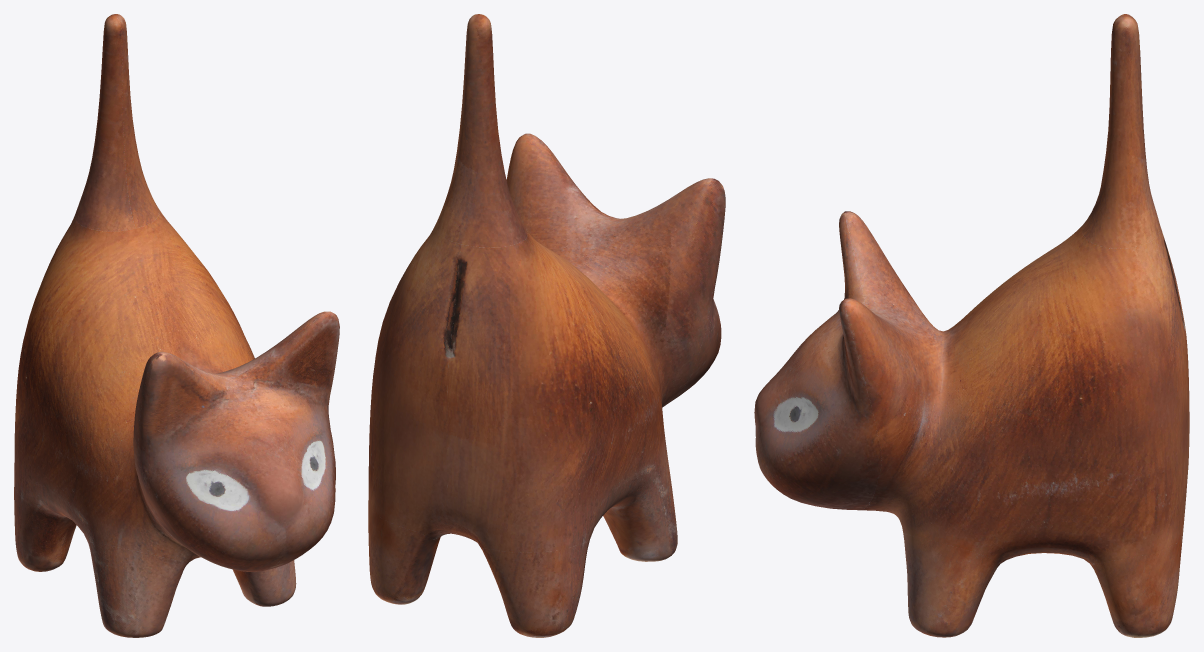
Rendered from gato_RTprueba.glb.
The picture shows the model from 3 angles, left to right: view 1: azimuth 30°, elevation 25°; view 2: azimuth 150°, elevation 25°; view 3: azimuth 270°, elevation 25°; orthographic projection. The views are drawn at different scales.
Visible parts, largest first — view 1: Gato_RT; view 2: Gato_RT; view 3: Gato_RT.
Boxes of the visible parts, left/top/right/bottom form: Gato_RT: left=14, top=14, right=339, bottom=637; Gato_RT: left=368, top=14, right=725, bottom=637; Gato_RT: left=754, top=14, right=1189, bottom=637.
Size of the model in its own units: 0.9354 by 2.49 by 1.69.
Materials: 1 (1 with a texture image).
